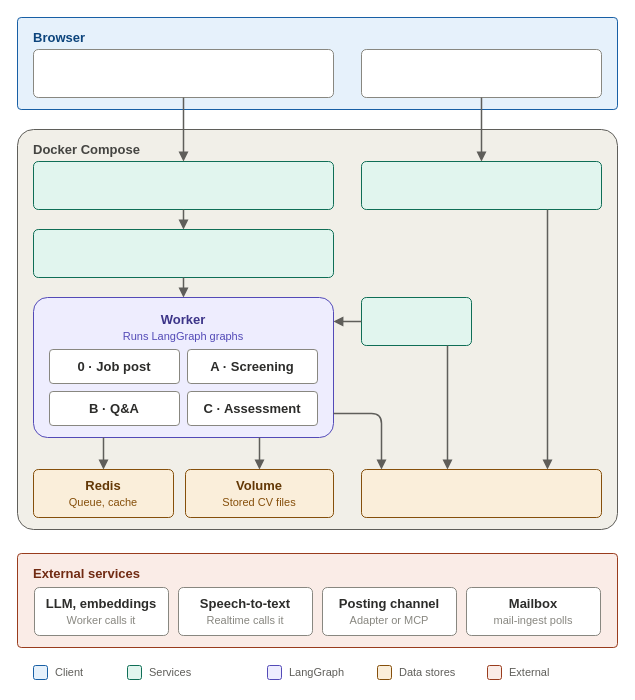
The diagram is 635 pixels wide and 700 high, and some of its shapes have lost their labels. The centre of each missing label's shape, as x and y in pixels:
API REST, validation, role checks: (x=183, y=253)
mail-ingest IMAP poller: (x=416, y=321)
nginx Reverse proxy, local TLS: (x=183, y=185)
PostgreSQL + pgvector CV, policy, transcripts, state: (x=481, y=493)
React UI Chat, approval, ranking, report: (x=183, y=73)
Realtime Signalling, audio, live STT: (x=481, y=185)
WebRTC client Separate audio channels: (x=481, y=73)
